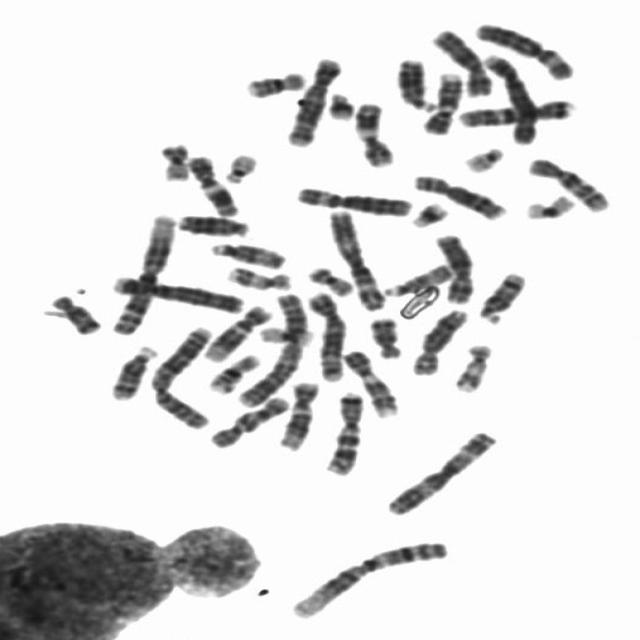A1: (282, 533, 456, 621), (106, 205, 182, 337)
A2: (231, 285, 312, 409), (145, 319, 221, 430)
A3: (380, 423, 504, 517), (321, 202, 391, 312)
B4: (105, 268, 251, 315), (477, 46, 544, 146)
B5: (280, 50, 347, 148), (300, 284, 351, 383)
C10: (521, 149, 616, 214), (204, 389, 296, 450)
C11: (180, 148, 243, 218), (348, 94, 401, 169)
C12: (200, 298, 276, 363), (273, 374, 323, 451)
C6: (468, 14, 580, 81), (289, 179, 418, 218)
C7: (453, 91, 582, 129), (319, 384, 370, 477)
C8: (407, 166, 512, 222), (405, 300, 475, 377)
C9: (336, 342, 405, 419), (416, 64, 468, 136)
D13: (390, 50, 441, 112), (170, 207, 255, 238)
D14: (103, 339, 163, 402), (473, 264, 533, 325)
D15: (376, 256, 458, 298), (205, 234, 292, 271)
E16: (203, 347, 265, 394), (238, 63, 312, 99)
E17: (448, 337, 497, 394), (221, 260, 297, 292)
E18: (44, 287, 107, 336), (363, 310, 408, 360)
F19: (519, 187, 582, 222), (253, 319, 318, 346)
F20: (302, 258, 359, 298), (152, 136, 195, 182)
G21: (406, 194, 454, 229), (319, 85, 360, 122)
G22: (217, 146, 264, 184), (458, 139, 510, 173)
X: (426, 21, 498, 98), (429, 227, 481, 305)
